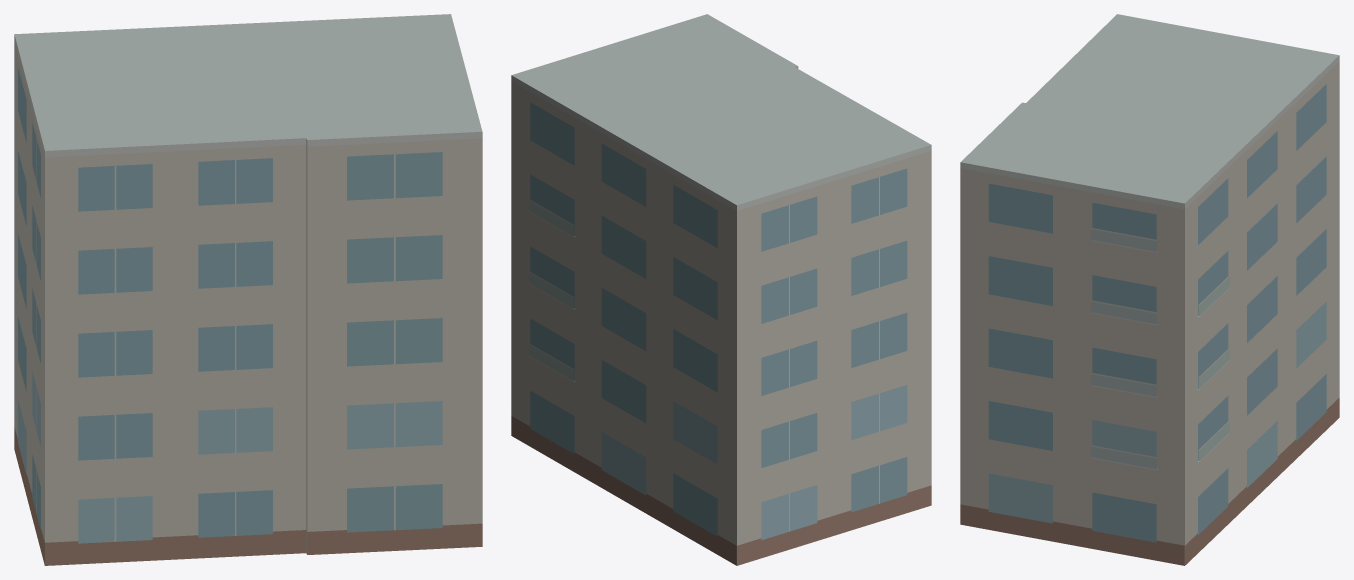
The model's file is survey-upis-32524544.glb.
The picture shows the model from 3 angles, left to right: view 1: azimuth 30°, elevation 25°; view 2: azimuth 150°, elevation 25°; view 3: azimuth 270°, elevation 25°; orthographic projection. The views are drawn at different scales.
Visible parts, largest first — view 1: survey-upis-32524544.tmp; view 2: survey-upis-32524544.tmp; view 3: survey-upis-32524544.tmp.
Boxes of the visible parts, x1=… form: survey-upis-32524544.tmp: x1=14, y1=14, x2=482, y2=565; survey-upis-32524544.tmp: x1=511, y1=14, x2=931, y2=565; survey-upis-32524544.tmp: x1=960, y1=14, x2=1339, y2=565.
Size of the model in its own units: 17.17 by 15.3 by 14.52.
